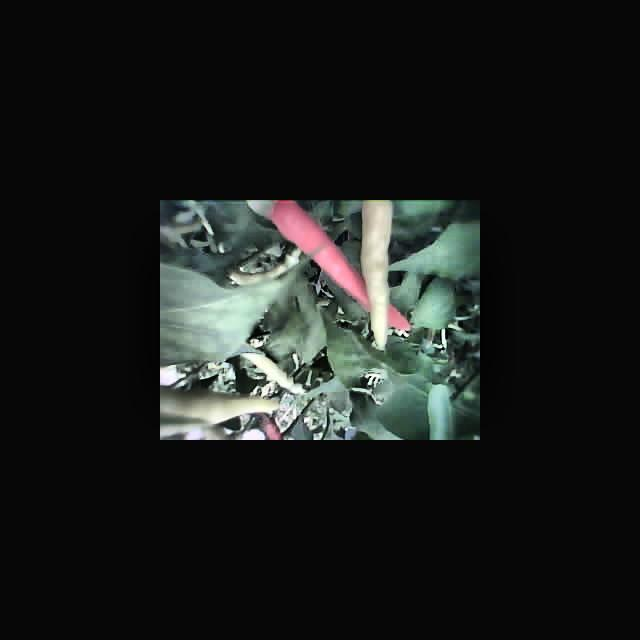Cabai: (269, 200, 361, 287)
